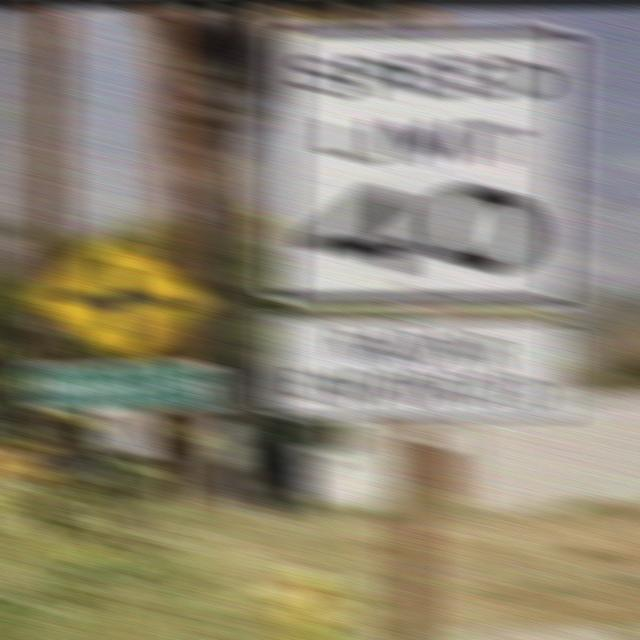speedLimit40: (276, 35, 568, 299)
